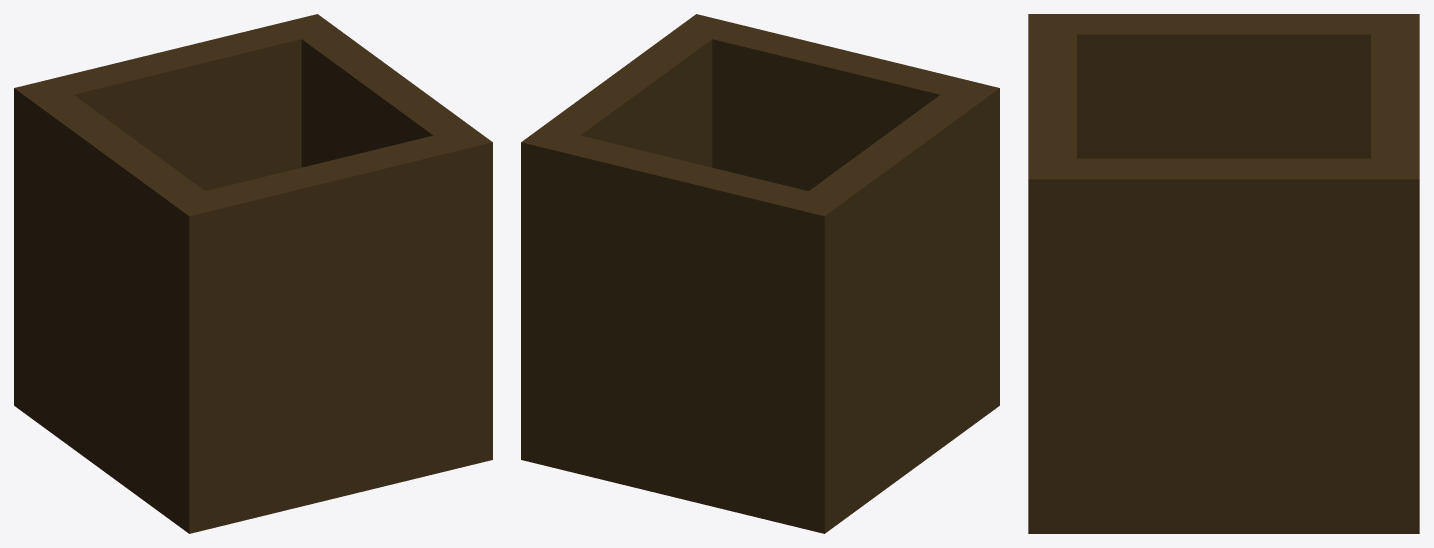
The picture shows the model from 3 angles, left to right: view 1: azimuth 30°, elevation 25°; view 2: azimuth 150°, elevation 25°; view 3: azimuth 270°, elevation 25°; orthographic projection. The views are drawn at different scales.
Visible parts, largest first — view 1: Cube; view 2: Cube; view 3: Cube.
Boxes of the visible parts, x1,y1,x2,y2 form: Cube: (14,14,492,533); Cube: (521,14,999,533); Cube: (1028,14,1419,533).
Size of the model in its own units: 200 by 200 by 200.
